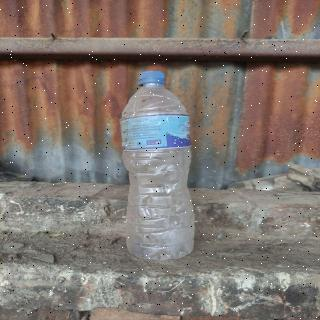Plastic-bottle: (116, 67, 201, 265)
